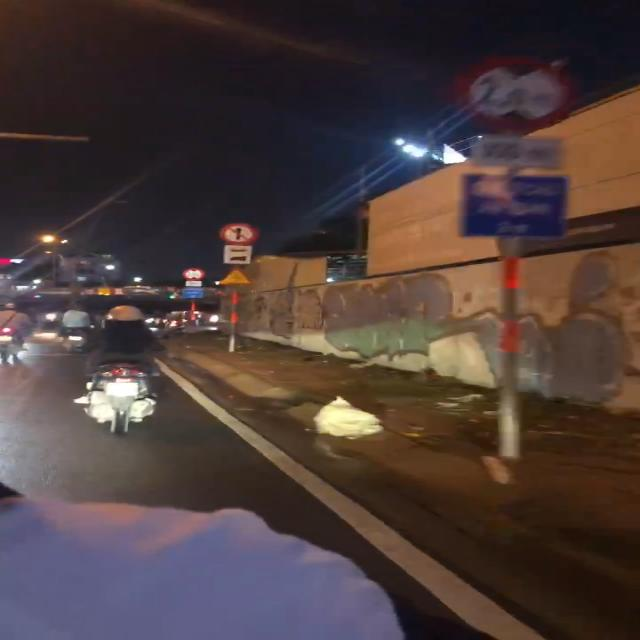Bien bao cam di thang: (218, 222, 258, 246)
